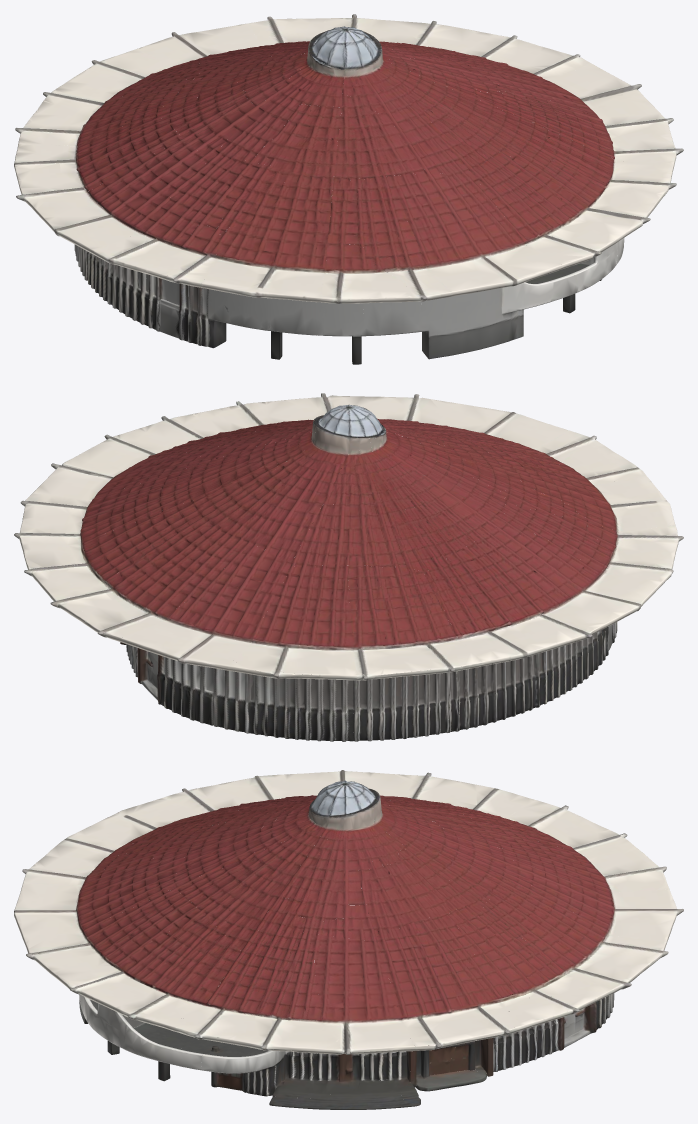
Rendered from iglesiaN.glb.
3 views of the same model, one above another, from view 1: azimuth 30°, elevation 25°; view 2: azimuth 150°, elevation 25°; view 3: azimuth 270°, elevation 25° (orthographic).
Parts seen in each view (by area): view 1: tripo_node_fe66a612-6efb-4a38-bb4f-e8a4aa030bae; view 2: tripo_node_fe66a612-6efb-4a38-bb4f-e8a4aa030bae; view 3: tripo_node_fe66a612-6efb-4a38-bb4f-e8a4aa030bae.
Boxes of the visible parts, x1,y1,x2,y2 form: tripo_node_fe66a612-6efb-4a38-bb4f-e8a4aa030bae: (14,14,683,364); tripo_node_fe66a612-6efb-4a38-bb4f-e8a4aa030bae: (14,393,683,741); tripo_node_fe66a612-6efb-4a38-bb4f-e8a4aa030bae: (14,770,683,1109).
Size of the model in its own units: 1 by 0.3595 by 0.999.
Materials: 1 (1 with a texture image).
